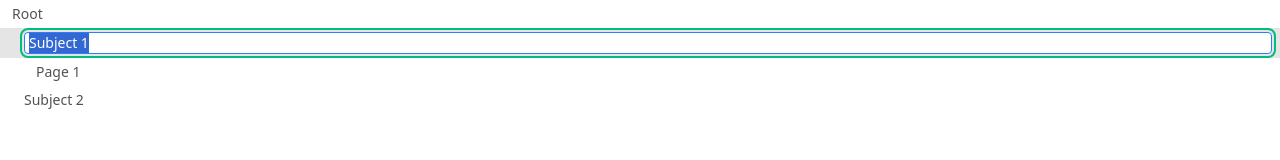
Test: NoteletsSidebar › structural editing › cancels rename on Esc without changing the text
This screenshot has width=1280, height=160.
Step 1. Replace the text in the field named "Rename node" with "Discarded" → (648, 43), box [24,32,1272,54]
Then press Escape
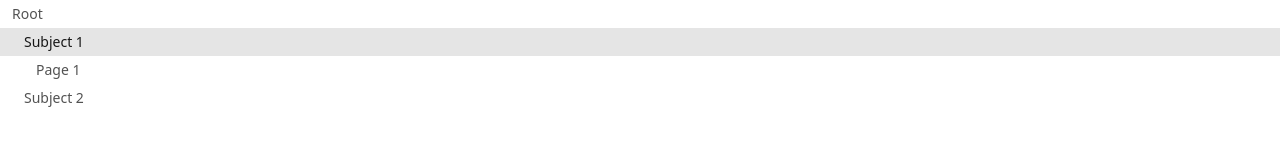
Now the list item "Subject 1" is shown, box [0,28,1279,56]
